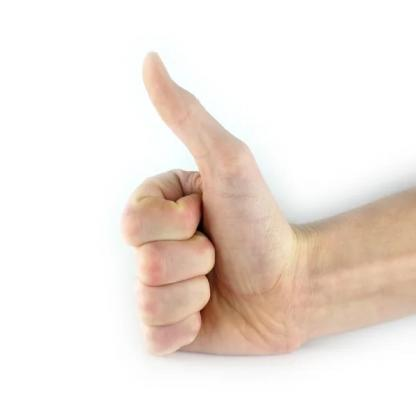thumb_up: (115, 44, 306, 376)
